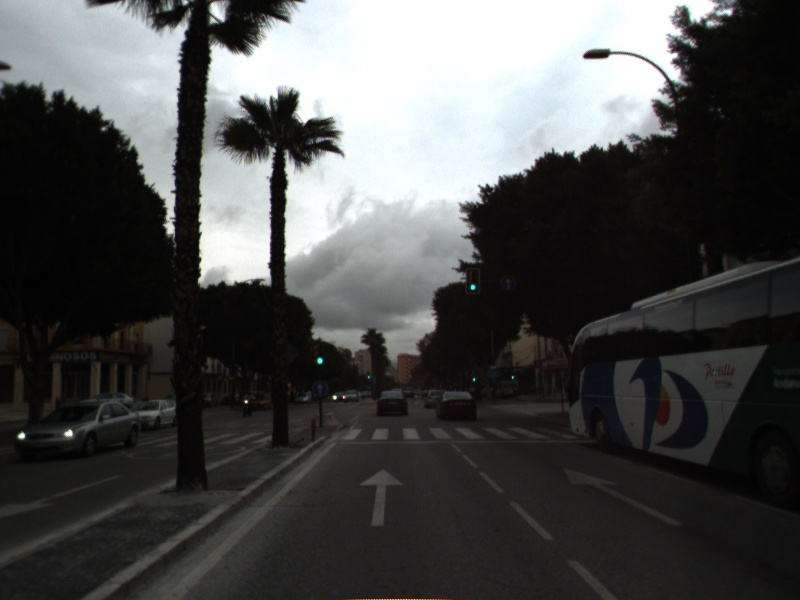STRAIGHT: (560, 465, 686, 528), (357, 466, 406, 529)
